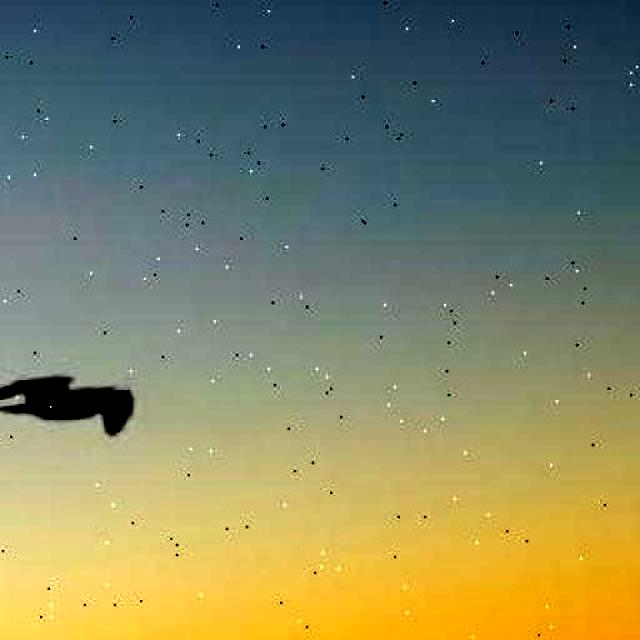airplane: (0, 364, 140, 456)
